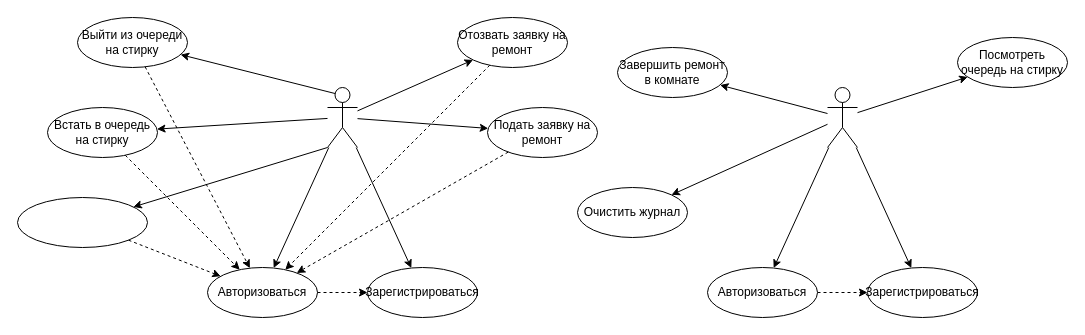
Some shapes in this 1085 by 335 pixel diagram are drawn without their labels. Here are the shapes that lost their labels. From the top down, the centre of each, then its label:
At (x=342, y=117): "User".
At (x=842, y=117): "Admin".
At (x=82, y=222): "Посмотреть место в очереди на стирку".
